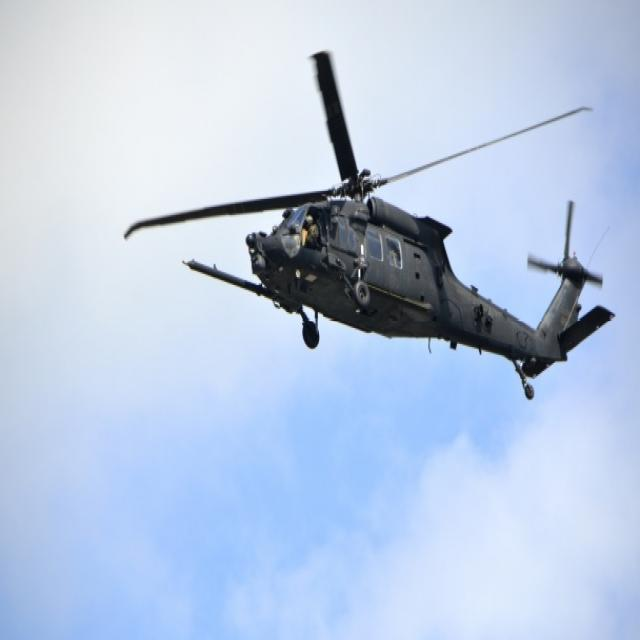helicopter: (127, 49, 628, 401)
